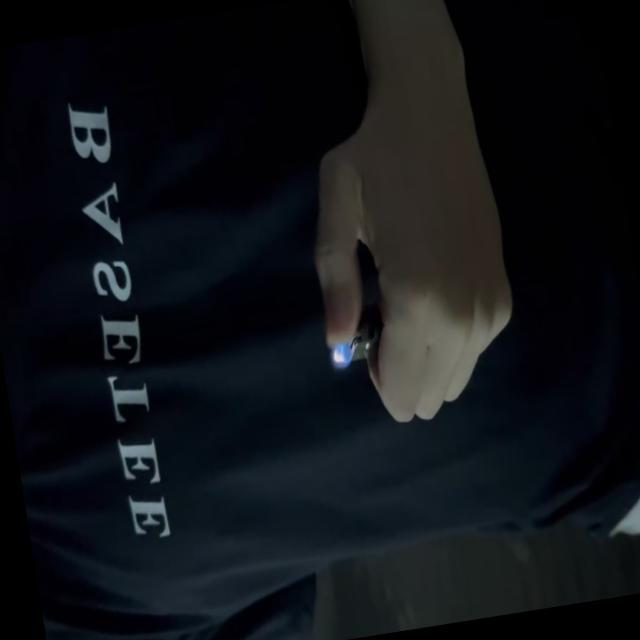Fire: (333, 346, 355, 367)
